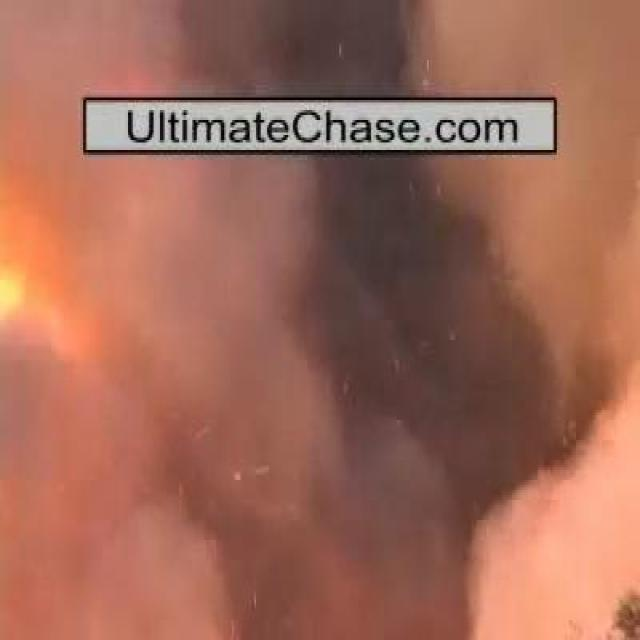Smoke: (103, 159, 569, 586)
